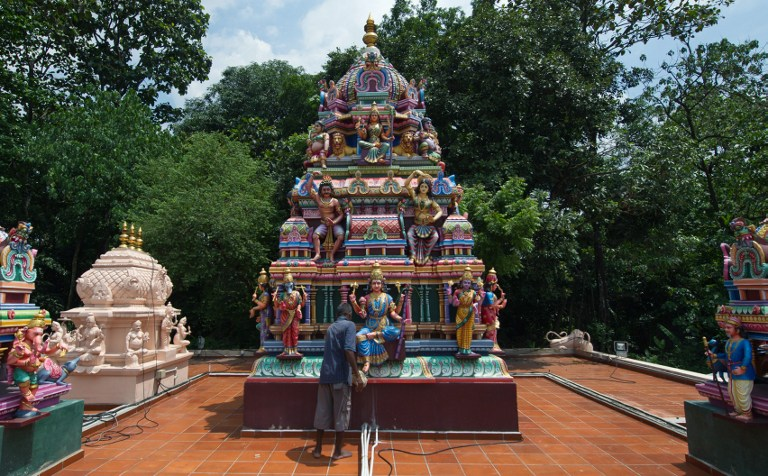Hindu Temple: (233, 15, 520, 444)
